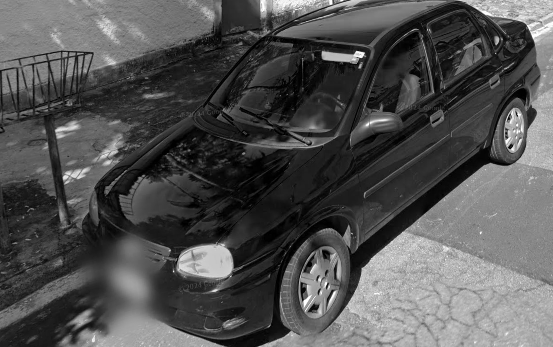car: (80, 1, 541, 339)
